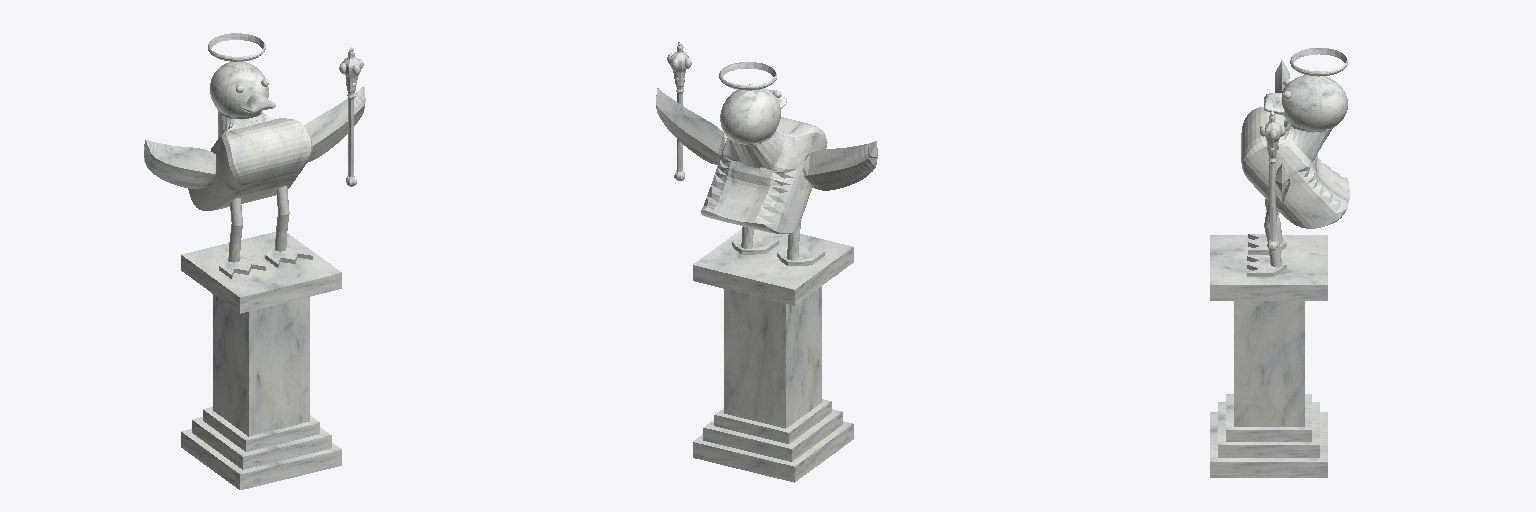
3 views of the same model, side by side, from view 1: azimuth 30°, elevation 25°; view 2: azimuth 150°, elevation 25°; view 3: azimuth 270°, elevation 25° (orthographic).
Parts seen in each view (by area): view 1: pCube8, DuckGod:polySurface7 DuckGod:pSphere7, DuckGod:pCube12, DuckGod:pCube6, DuckGod:polySurface11, DuckGod:polySurface13, DuckGod:pCube20, DuckGod:pSphere8; view 2: pCube8, DuckGod:polySurface7 DuckGod:pSphere7, DuckGod:pCube12, DuckGod:pCube6, DuckGod:pCube20, DuckGod:polySurface13, DuckGod:polySurface11, DuckGod:pSphere8; view 3: pCube8, DuckGod:polySurface7 DuckGod:pSphere7, DuckGod:pCube20, DuckGod:polySurface11, DuckGod:pSphere8, DuckGod:polySurface13.
Boxes of the visible parts, <box> form: pCube8: <box>181,232,341,489</box>; DuckGod:polySurface7 DuckGod:pSphere7: <box>188,62,312,210</box>; DuckGod:pCube12: <box>144,139,215,188</box>; DuckGod:pCube6: <box>304,86,365,162</box>; DuckGod:polySurface11: <box>265,186,312,267</box>; DuckGod:polySurface13: <box>219,198,265,278</box>; DuckGod:pCube20: <box>339,47,363,186</box>; DuckGod:pSphere8: <box>208,33,265,61</box>; pCube8: <box>693,229,853,482</box>; DuckGod:polySurface7 DuckGod:pSphere7: <box>701,88,827,233</box>; DuckGod:pCube12: <box>803,141,877,190</box>; DuckGod:pCube6: <box>656,88,727,164</box>; DuckGod:pCube20: <box>667,42,691,180</box>; DuckGod:polySurface13: <box>777,222,824,265</box>; DuckGod:polySurface11: <box>732,226,778,254</box>; DuckGod:pSphere8: <box>719,62,776,90</box>; pCube8: <box>1210,235,1327,477</box>; DuckGod:polySurface7 DuckGod:pSphere7: <box>1241,75,1349,228</box>; DuckGod:pCube20: <box>1260,111,1284,251</box>; DuckGod:polySurface11: <box>1247,201,1286,276</box>; DuckGod:pSphere8: <box>1290,48,1347,76</box>; DuckGod:polySurface13: <box>1248,199,1286,254</box>.
Bounding box in the file's own units: 8.7 × 14.77 × 4.74.
Materials: 2 (1 with a texture image).